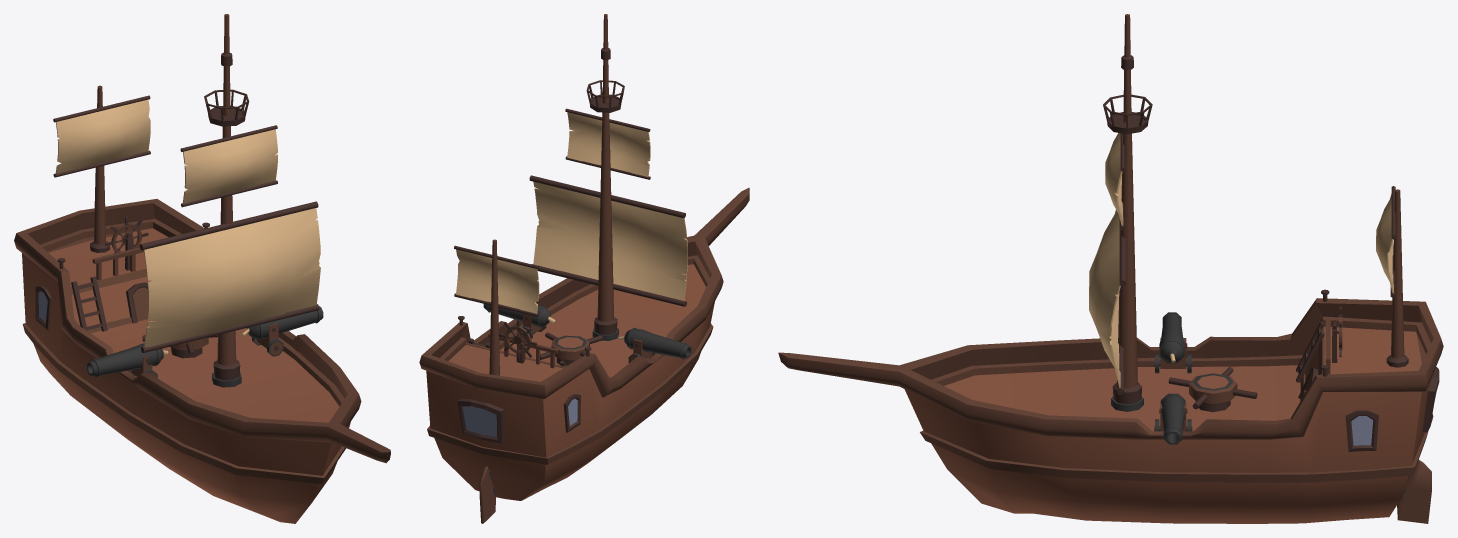
File: Ship.fbx
3 views of the same model, side by side, from view 1: azimuth 30°, elevation 25°; view 2: azimuth 150°, elevation 25°; view 3: azimuth 270°, elevation 25° (orthographic). The views are drawn at different scales.
Visible parts, largest first — view 1: Deck, Hull, Sail1, Sail2, Sail3, MastMain, HullRim, CannonR, SailSupportTopMainBig, MastSmall, CannonL, SailSupportBaseMainBig (+3 smaller); view 2: Deck, Hull, Sail1, MastMain, Sail3, Sail2, HullRim, CannonR, MastSmall, Capstan, SailSupportTopMainBig, SailSupportBaseMainBig (+3 smaller); view 3: Deck, Hull, MastMain, HullRim, Sail1, Capstan, MastSmall, Rudder, CannonR, CannonL, Sail3, Sail2.
Part boxes in pixels (x1,y1,x2,y2): Deck: (14,199,390,463); Hull: (22,253,350,523); Sail1: (144,208,320,347); Sail2: (183,129,277,203); Sail3: (55,99,150,173); MastMain: (204,14,249,387); HullRim: (22,323,346,484); CannonR: (87,343,168,377); SailSupportTopMainBig: (139,201,318,250); MastSmall: (90,85,109,252); CannonL: (242,306,323,340); SailSupportBaseMainBig: (141,304,319,353); Deck: (419,188,749,443); Hull: (426,298,714,500); Sail1: (533,181,687,300); MastMain: (586,14,624,340); Sail3: (456,249,539,313); Sail2: (567,112,650,177); HullRim: (427,323,713,464); CannonR: (619,327,691,359); MastSmall: (489,239,499,375); Capstan: (540,332,602,365); SailSupportTopMainBig: (529,175,685,218); SailSupportBaseMainBig: (532,264,686,306); Deck: (778,289,1443,451); Hull: (904,357,1435,523); MastMain: (1103,14,1152,411); HullRim: (920,431,1428,482); Sail1: (1089,210,1120,387); Capstan: (1168,367,1257,412); MastSmall: (1386,189,1408,367); Rudder: (1397,459,1431,523); CannonR: (1159,312,1184,363); CannonL: (1160,393,1185,444); Sail3: (1376,193,1393,293); Sail2: (1105,133,1123,225).
Size of the model in its own units: 253 by 501 by 594.
